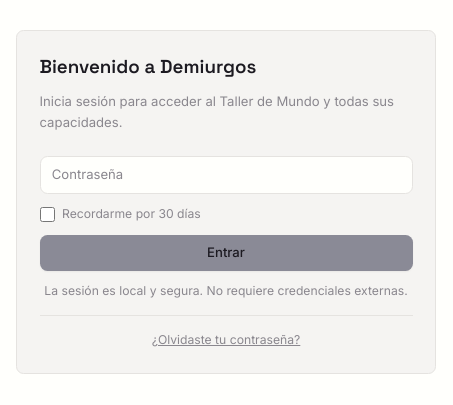
Test: LoginScreen (credentials vault mode) › asks for the password when a password-protected account sends none (422)
This screenshot has width=453, height=405.
Click the button "Entrar" at (226, 253), box [40,235,412,271]
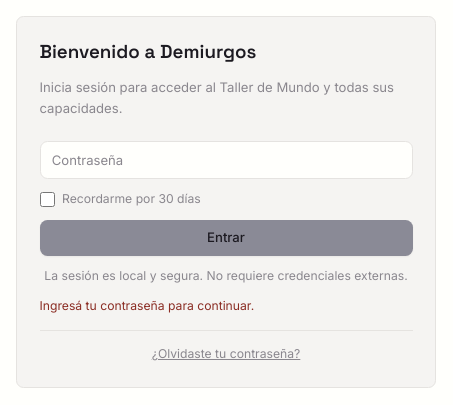
Now the text "Ingresá tu contraseña para continuar." is shown, box [40,298,254,313]
